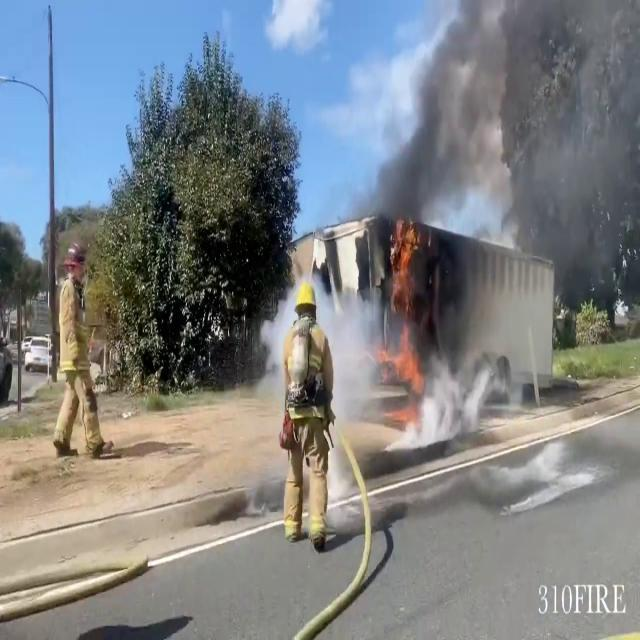Smoke: (370, 0, 640, 244), (310, 278, 390, 456)
